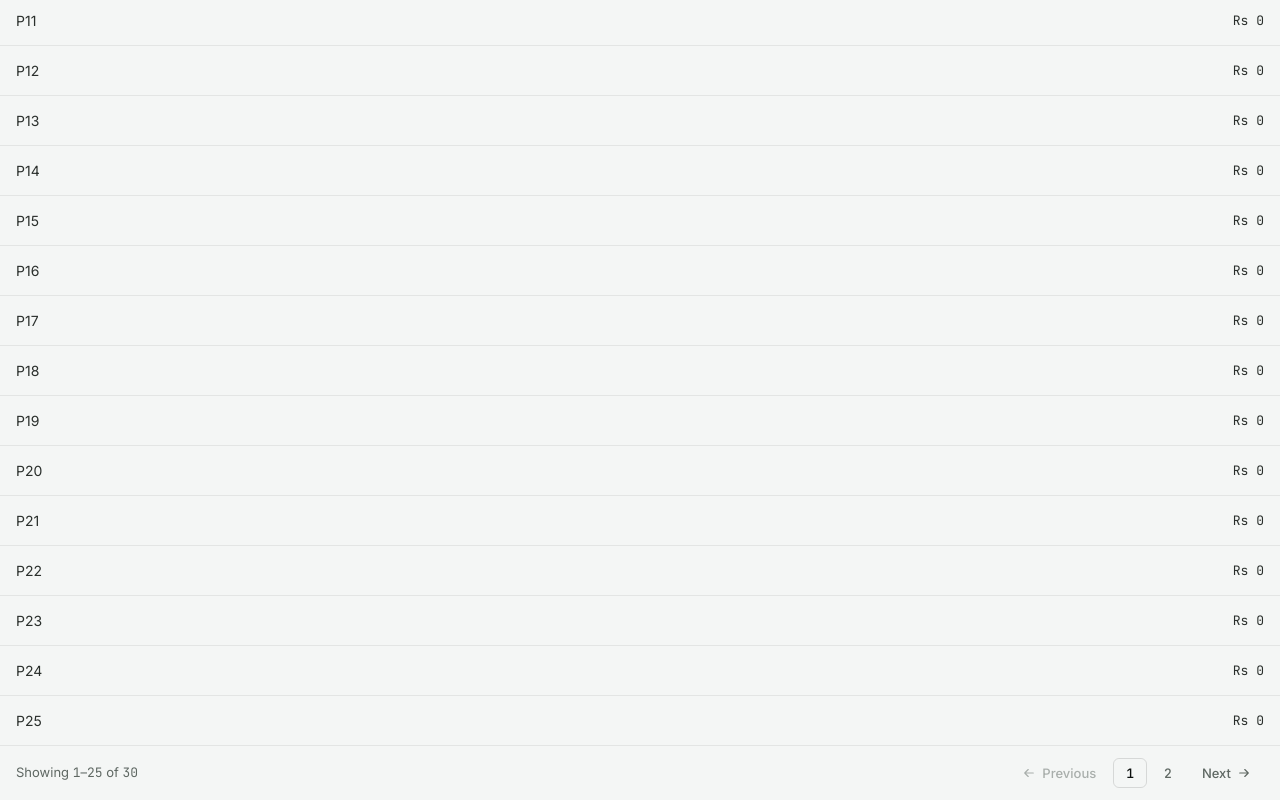
Test: DataTable paging › pages its own rows 25 at a time
(page scrolled)
Expected: the navigation bar named "Parties pages" shows "Showing 1–25 of 30", [0,745,1279,799]
Click the button "Next": (1226, 773) [1189,758,1264,788]
(page scrolled)
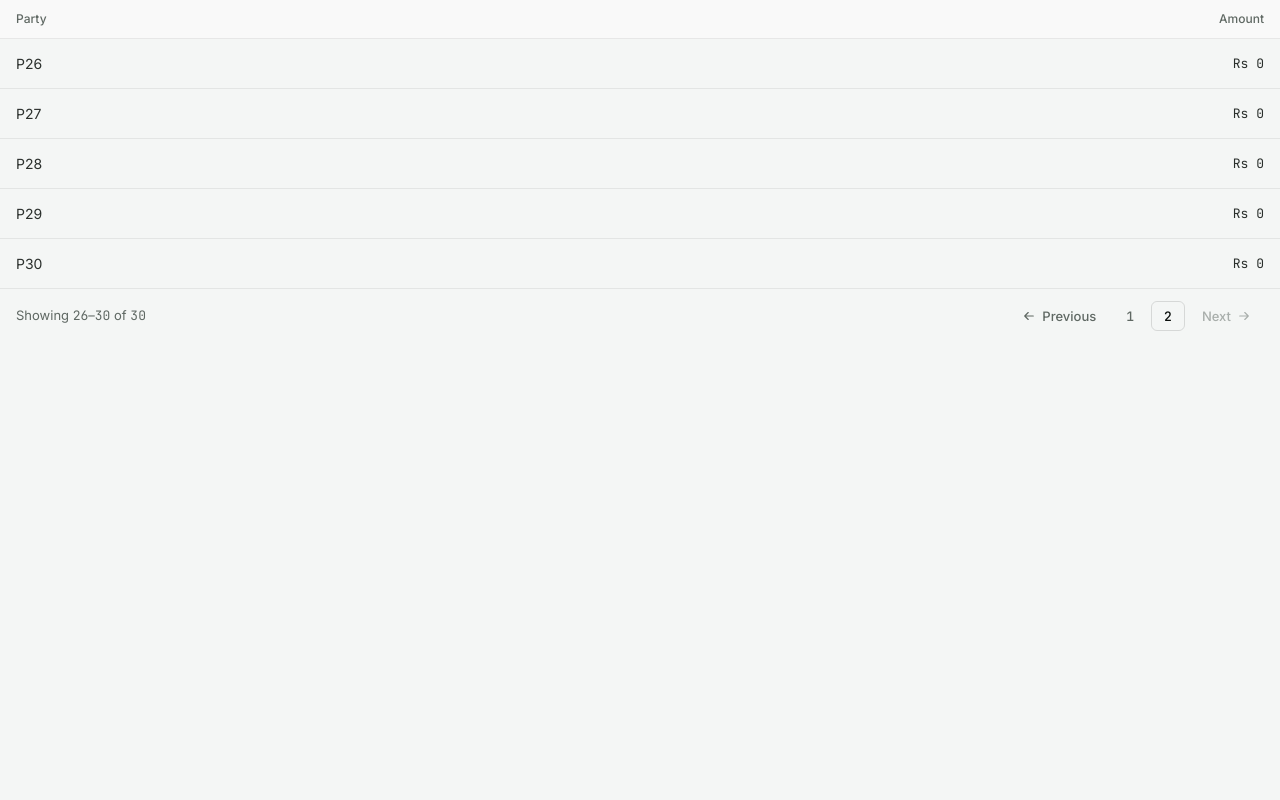
Expected: the cell "P26" is shown, [0,39,574,89]
Expected: the navigation bar named "Parties pages" shows "Showing 26–30 of 30", [0,288,1279,343]
